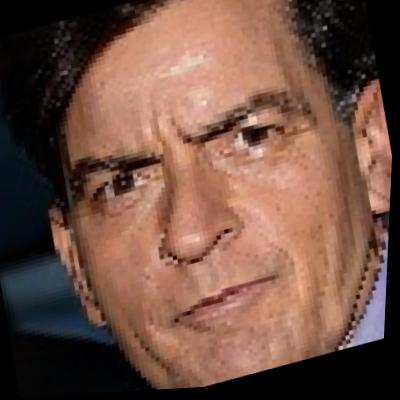angry: (34, 0, 392, 398)
